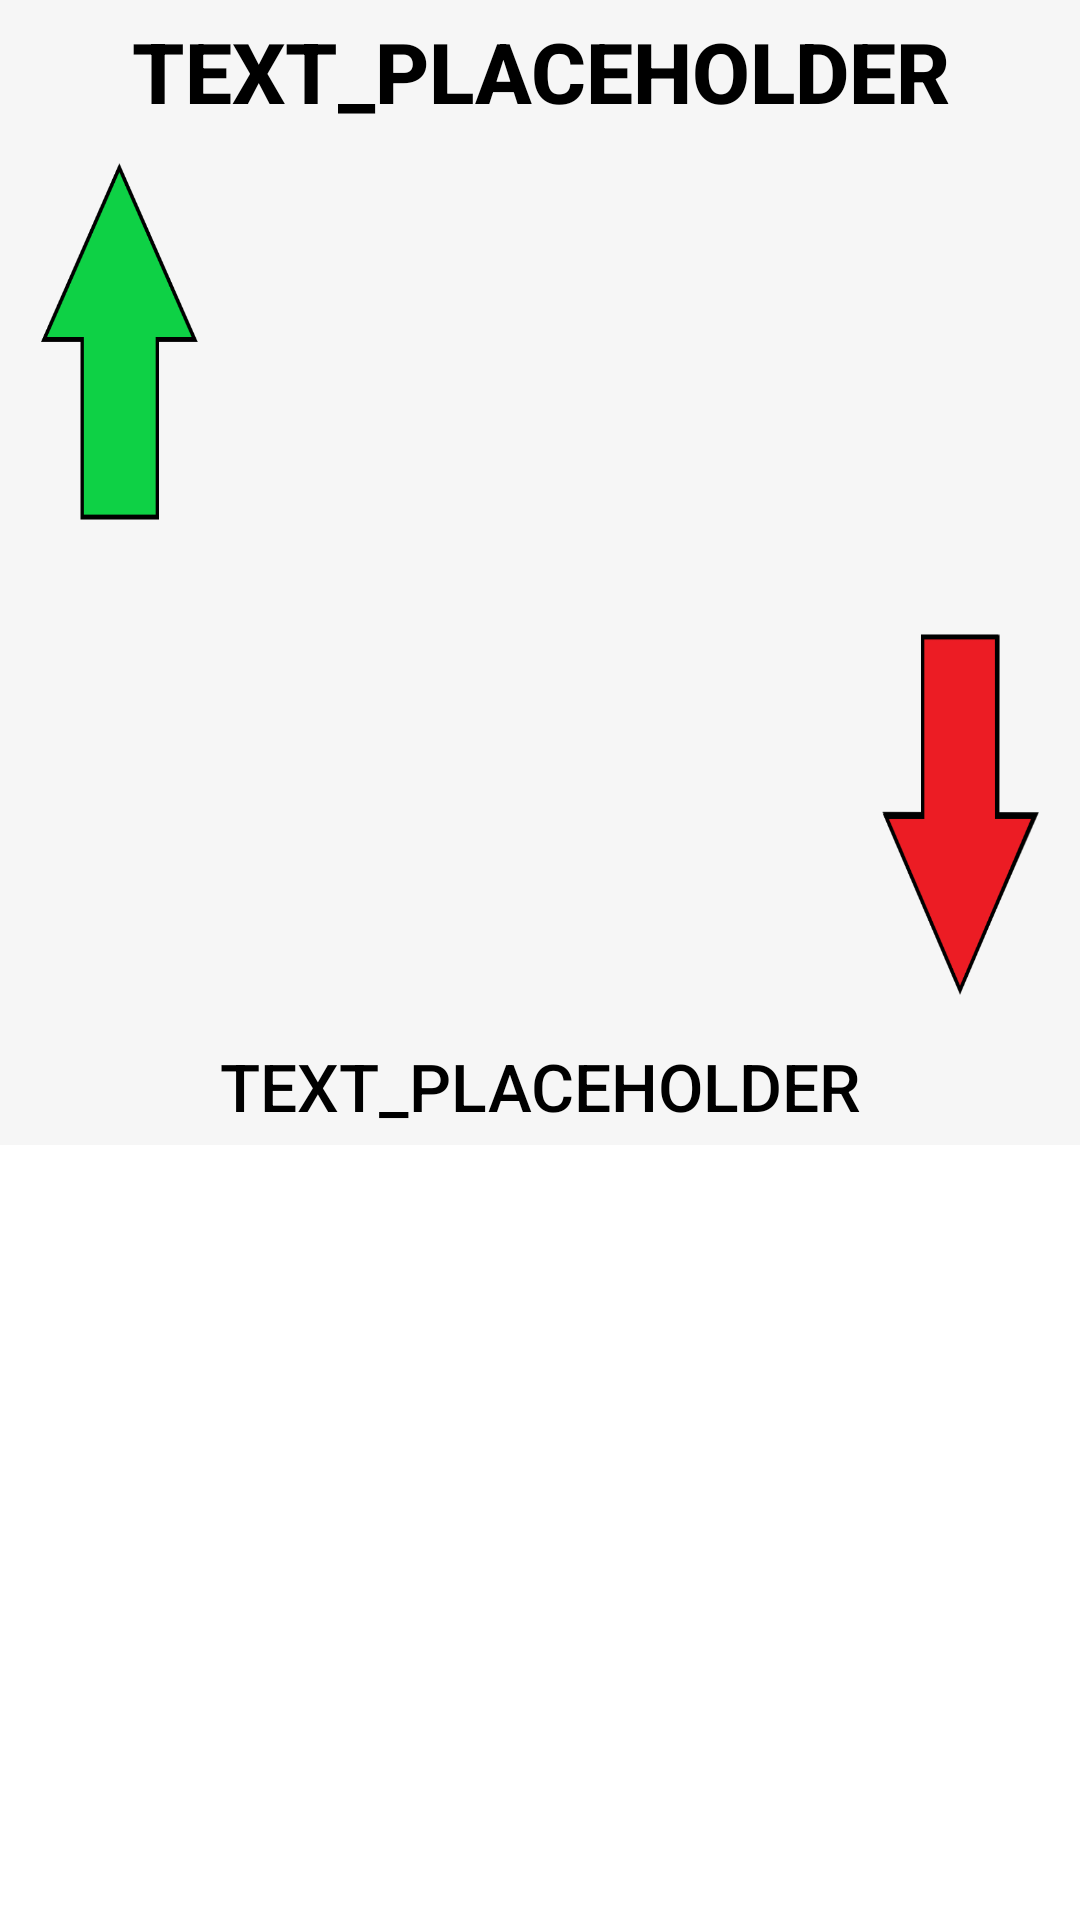

Locate icon controls on the screen. Image size 1080px×1920px, boxes as (x1, y1, x2, y2).
upgrade arrow: (41, 163, 198, 520)
